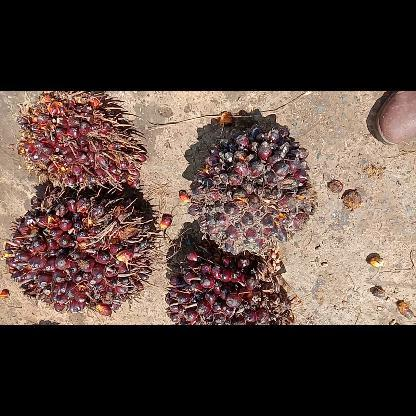Kurang masak: (0, 188, 166, 314), (186, 124, 312, 254), (15, 90, 145, 194), (165, 246, 291, 324)
